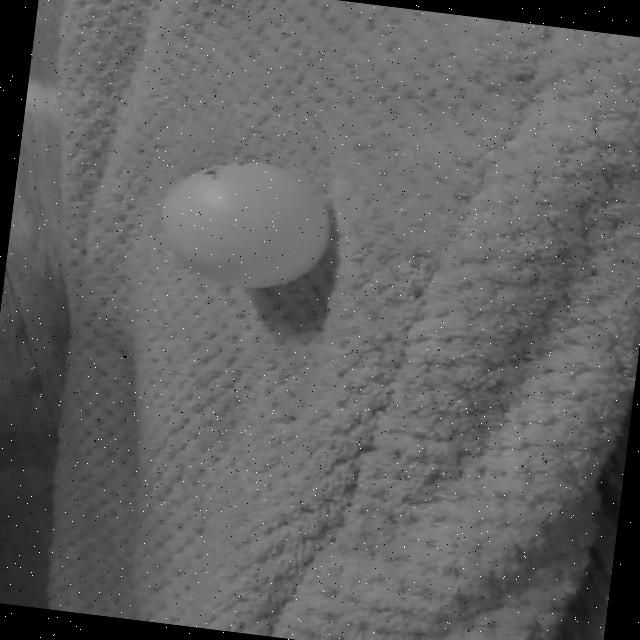ping-pong-ball: (154, 151, 334, 299)
